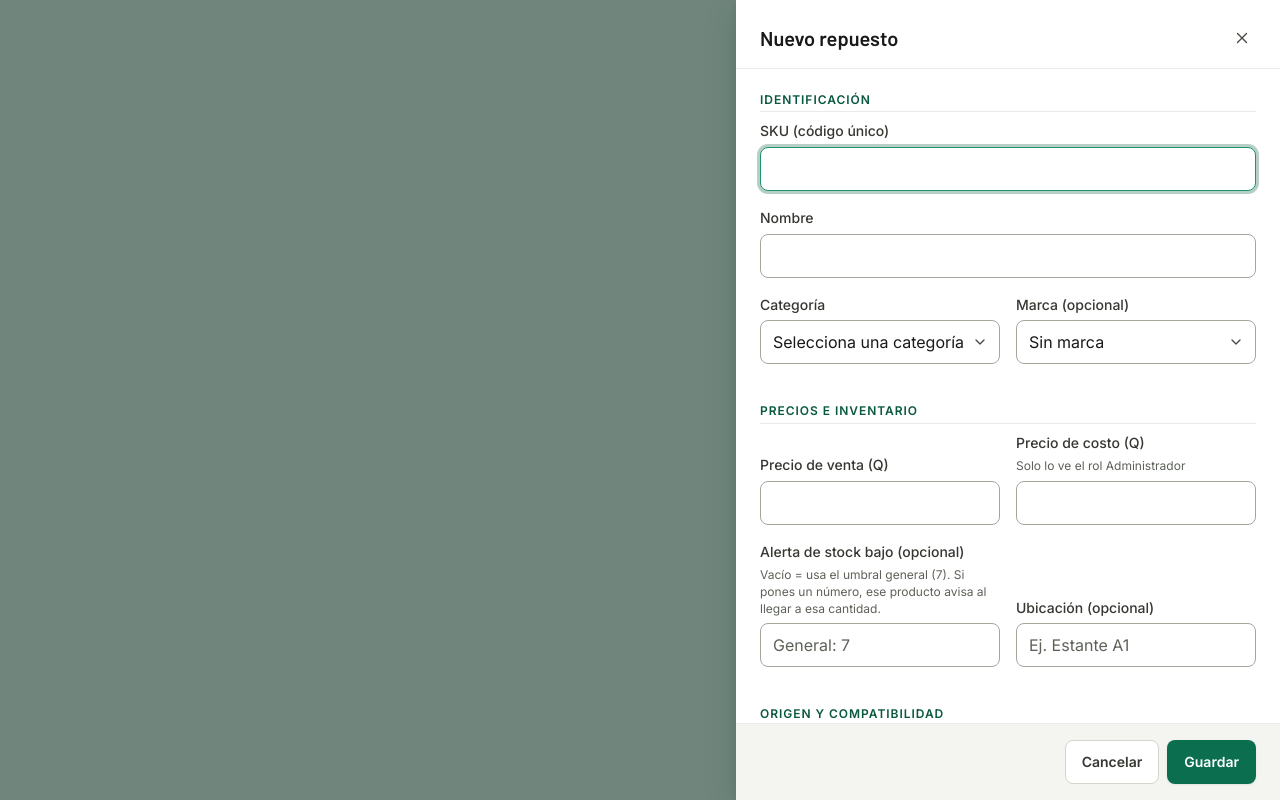
Test case: RepuestoFormModal › no envía el formulario si no se eligió categoría
Type "SKU-001" into the field labelled "SKU (código único)" at (1008, 169), box [760,147,1256,191]
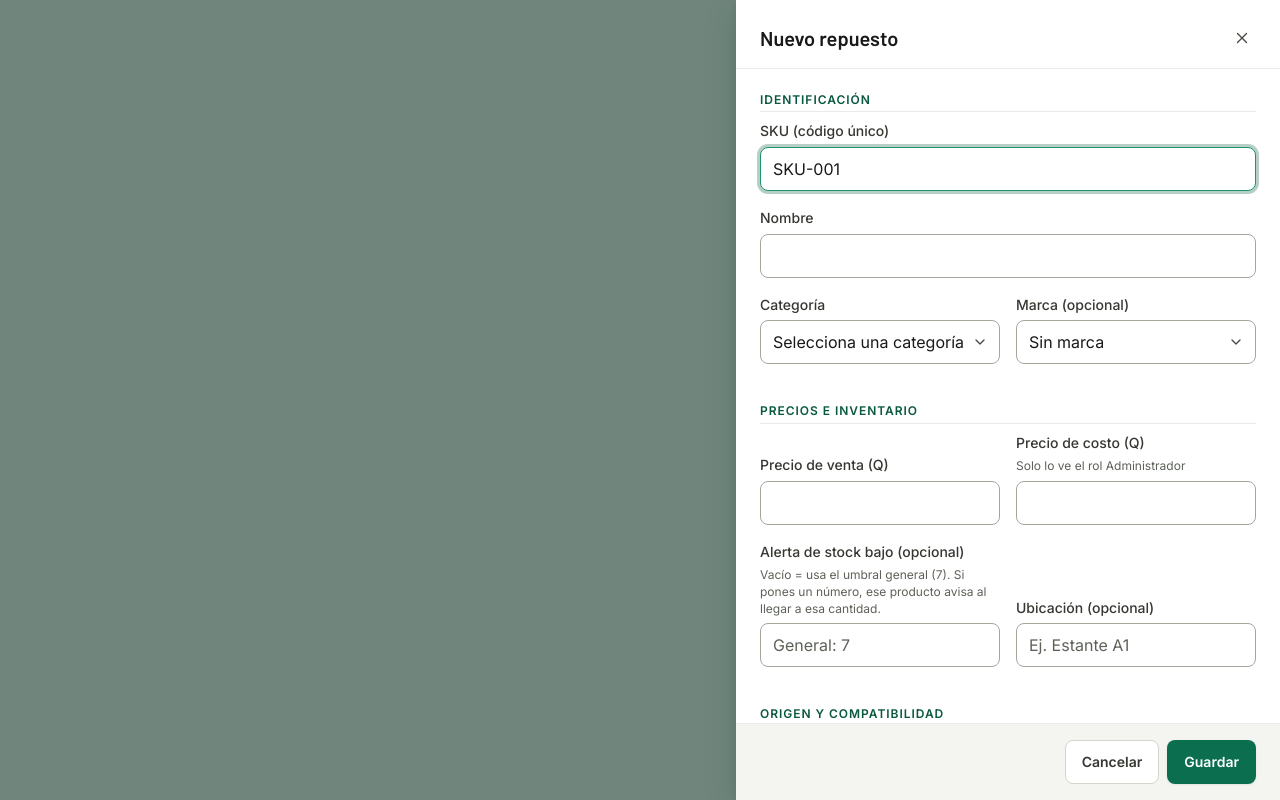
Type "Pastillas de freno" into the field labelled "Nombre" at (1008, 256), box [760,234,1256,278]
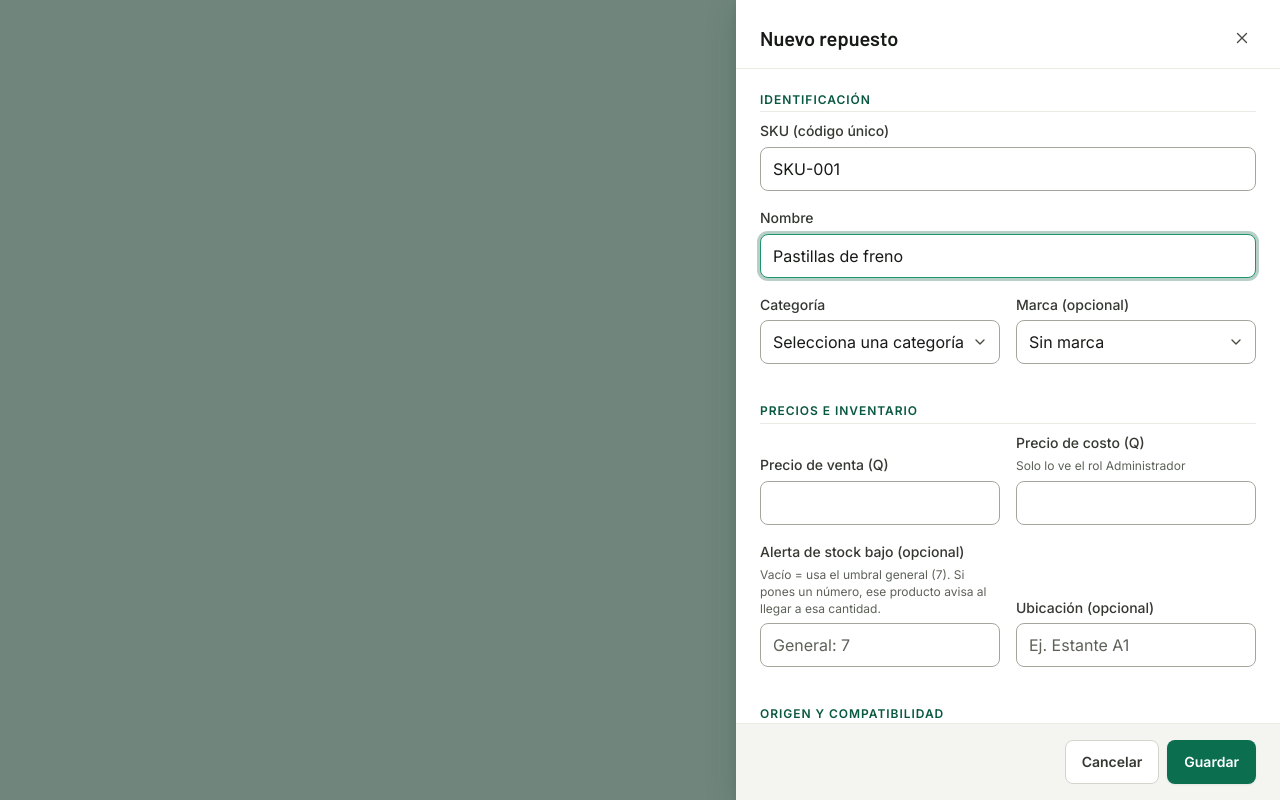
Type "125.50" into the number field labelled "Precio de venta (Q)" at (880, 502), box [760,480,1000,524]
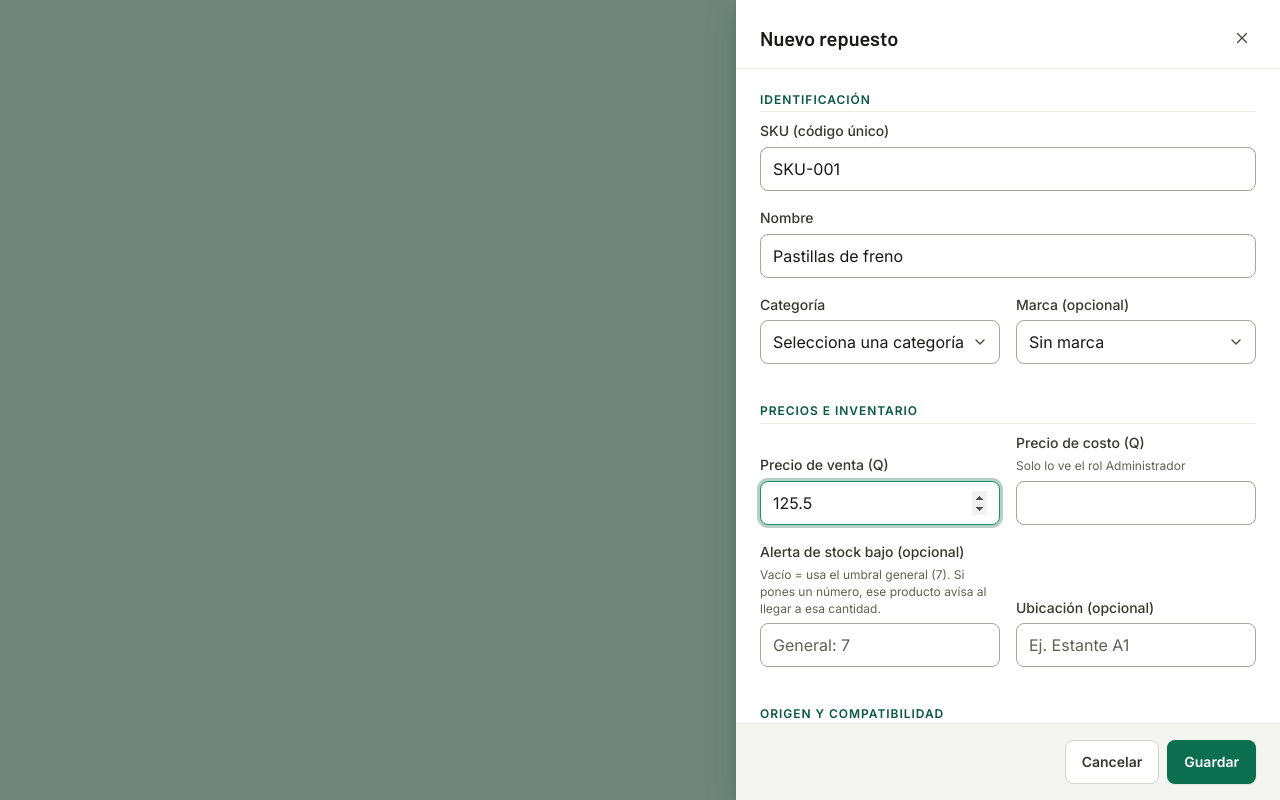
Type "80" into the number field labelled "Precio de costo (Q)" at (1136, 502), box [1016,480,1256,524]
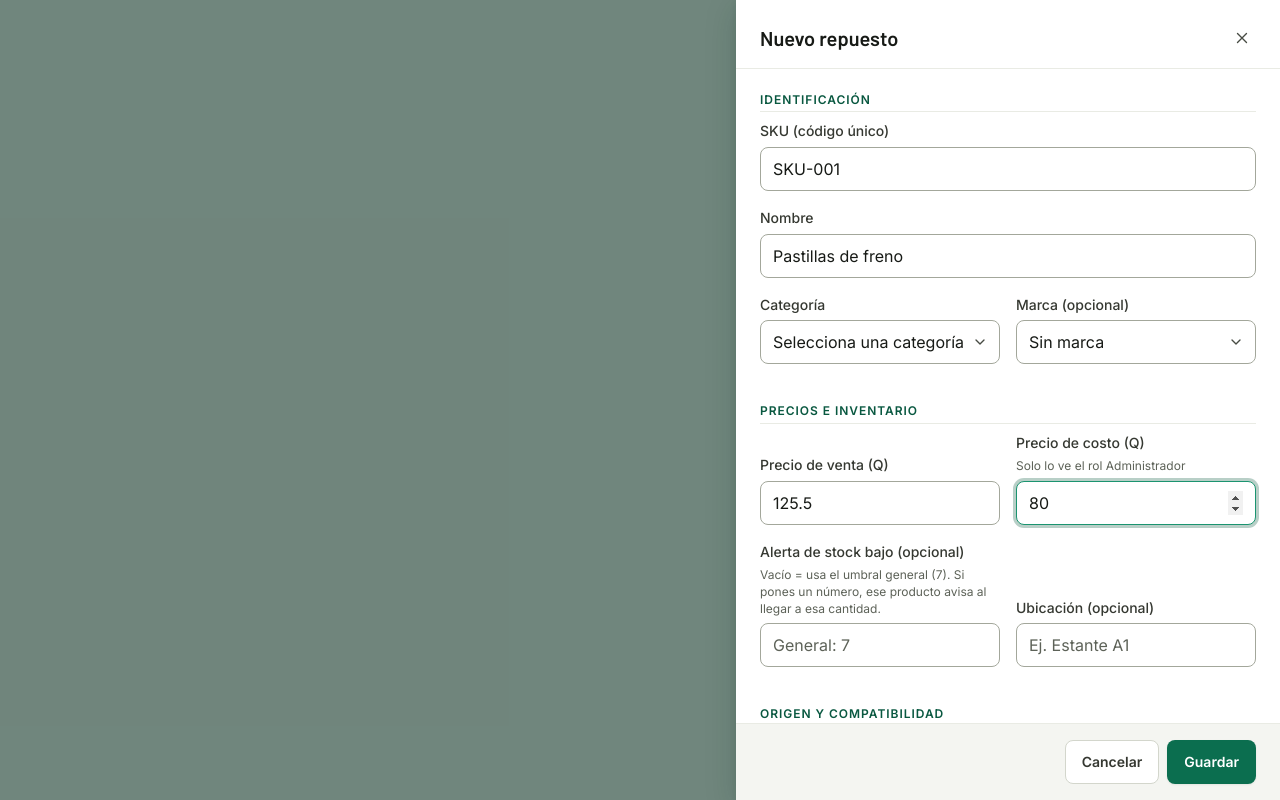
Click the button "Guardar" at (1212, 762), box [1167,740,1256,784]
(page scrolled)
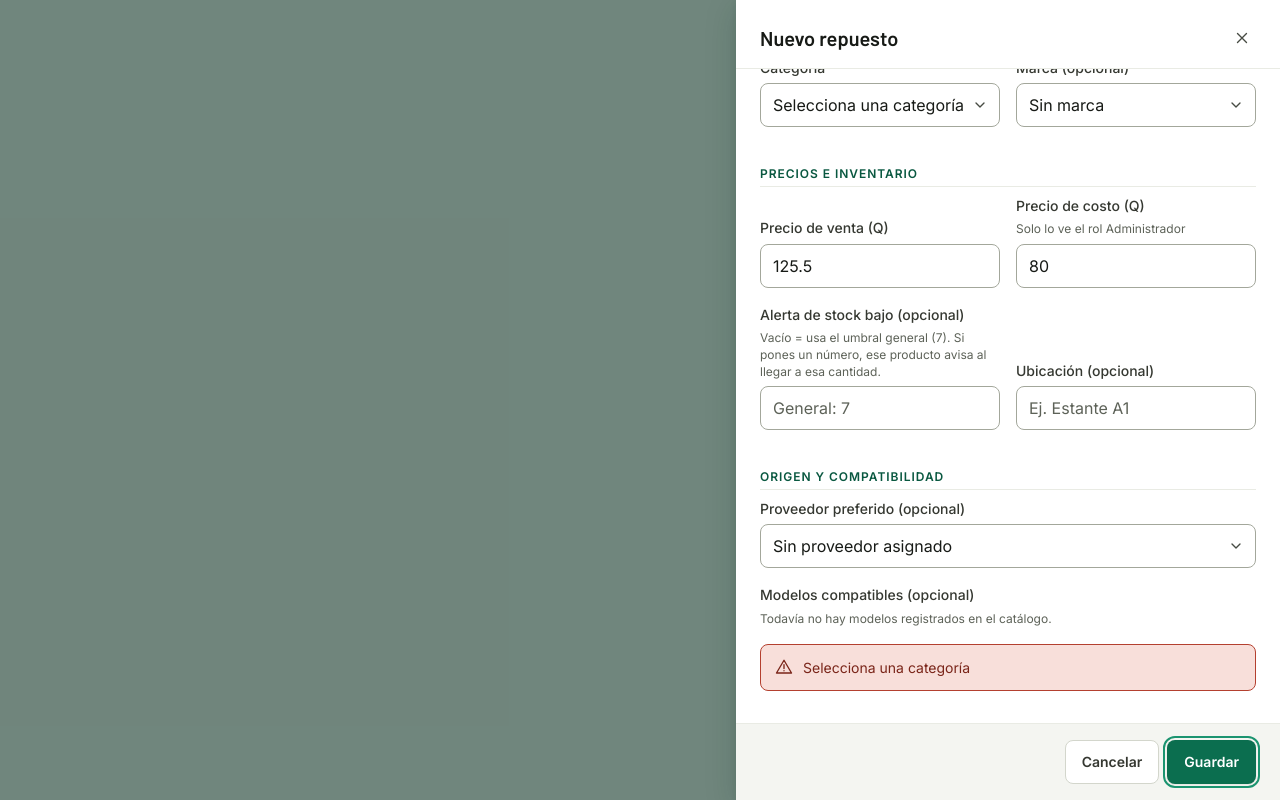
Expected: the message reads "Selecciona una categoría", [803,658,970,676]
